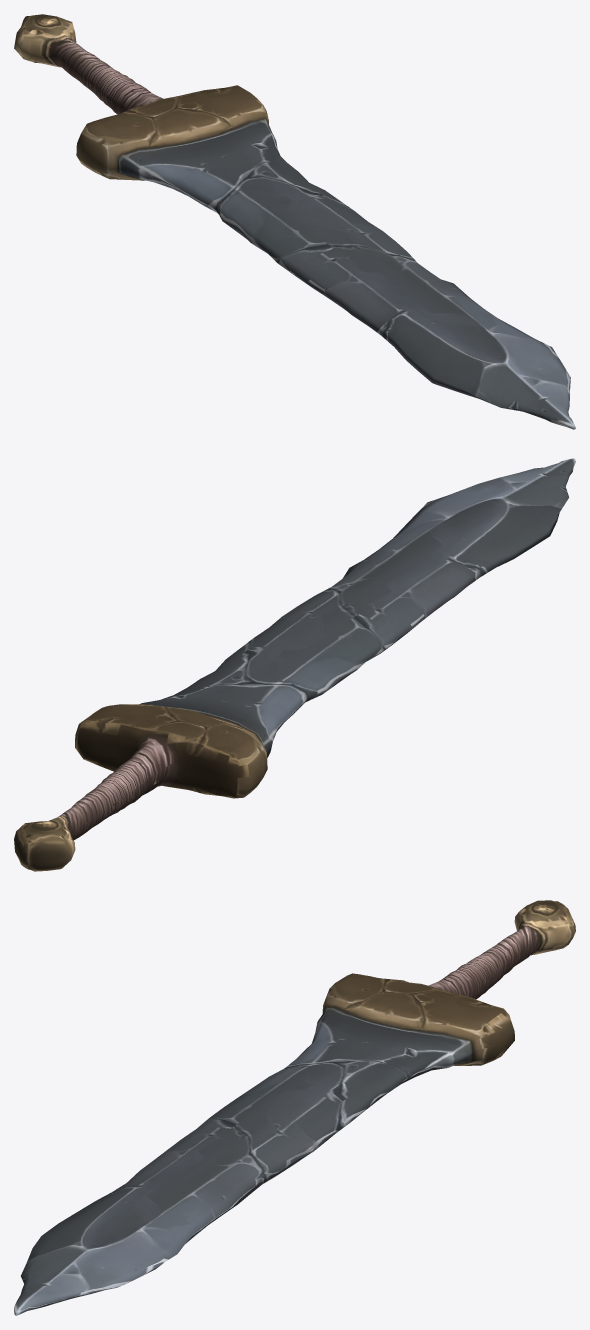
The model's file is Sword.fbx.
The picture shows the model from 3 angles, top to bottom: view 1: azimuth 30°, elevation 25°; view 2: azimuth 150°, elevation 25°; view 3: azimuth 330°, elevation 25°; orthographic projection.
Parts seen in each view (by area): view 1: sword; view 2: sword; view 3: sword.
Boxes of the visible parts, x1,y1,x2,y2 form: sword: (14, 14, 575, 429); sword: (14, 458, 575, 871); sword: (14, 900, 575, 1315).
Bounding box in the file's own units: 19.55 × 6.05 × 106.
